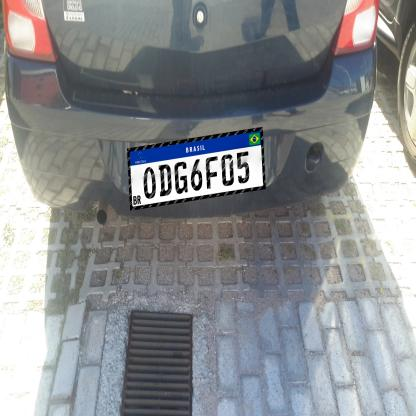PlacaM: (127, 127, 266, 211)
